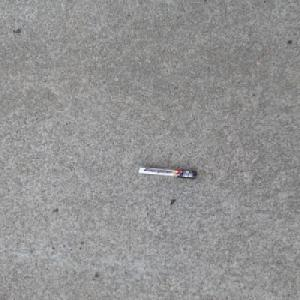Battery: (137, 166, 199, 180)
